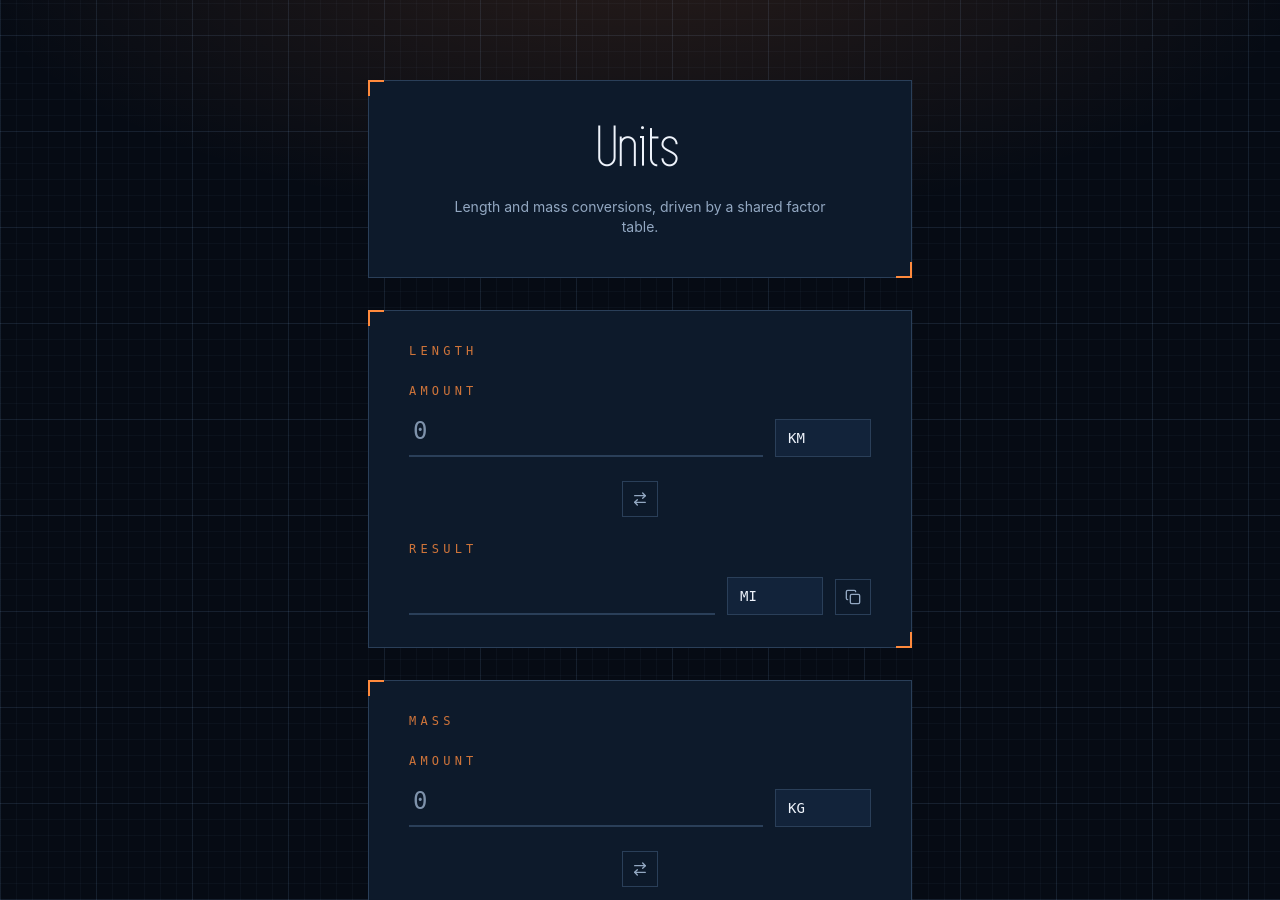
UnitsView › swaps from and to units when the swap button is clicked
Check: the dropdown named "Length source unit" shows "km", box [775,419,871,457]
Check: the dropdown named "Length target unit" shows "mi", box [727,577,823,615]
Click the button named "Swap Length units": [640, 499] box [622,481,658,517]
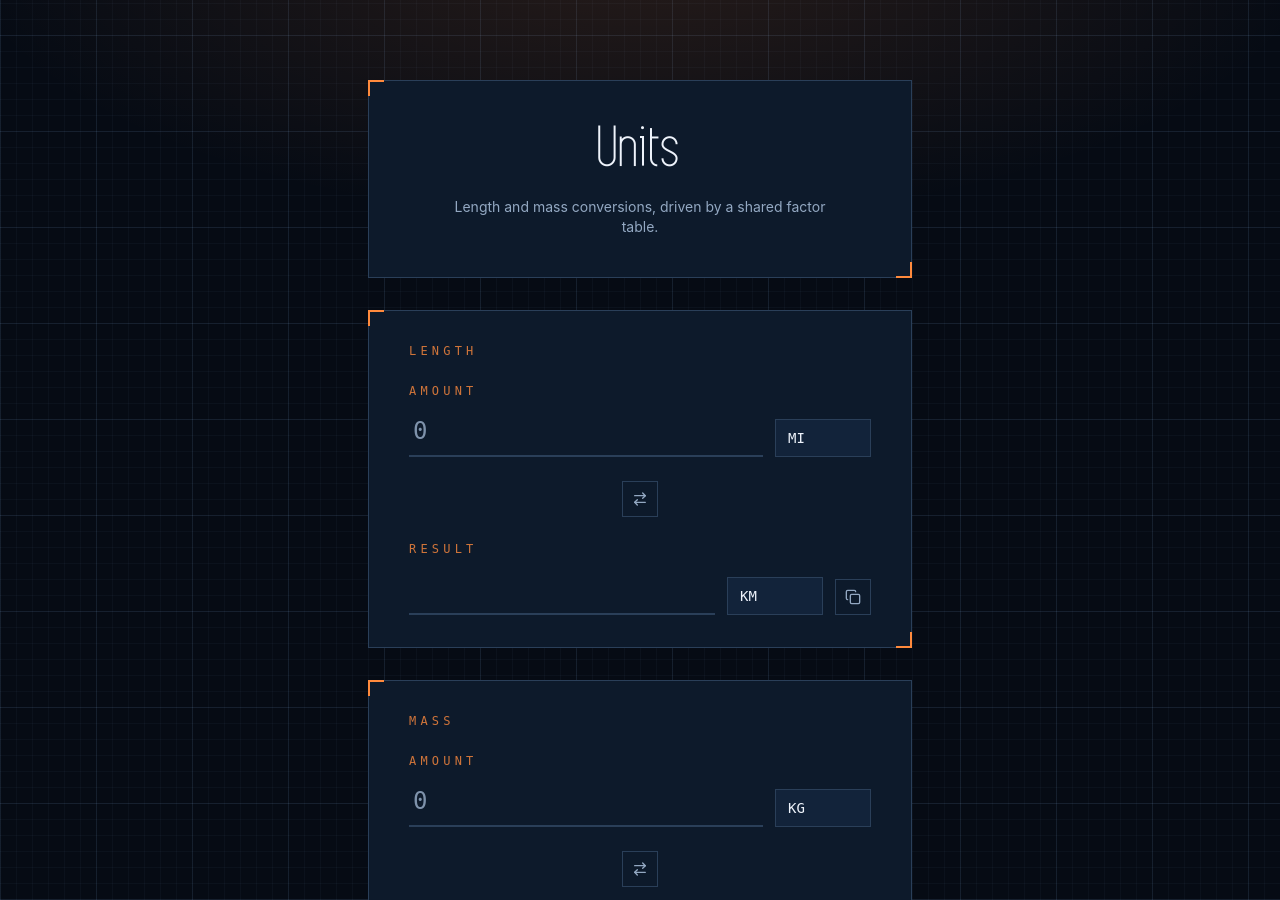
Check: the dropdown named "Length source unit" shows "mi", box [775,419,871,457]
Check: the dropdown named "Length target unit" shows "km", box [727,577,823,615]
